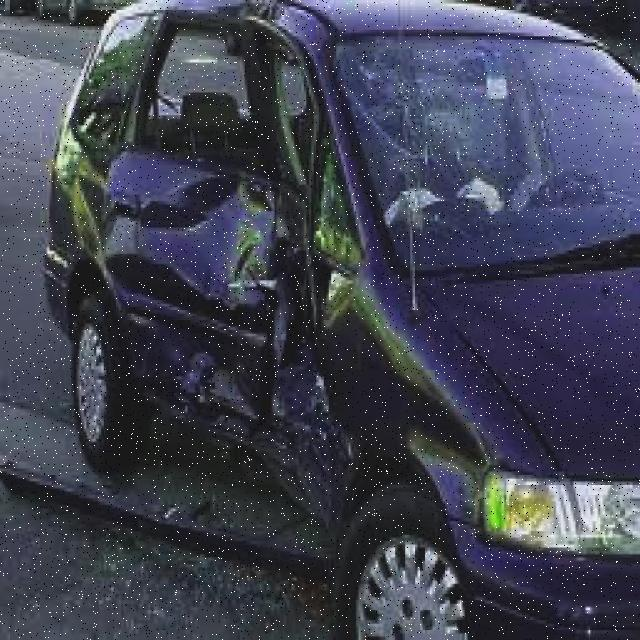car damage: (64, 2, 478, 528)
